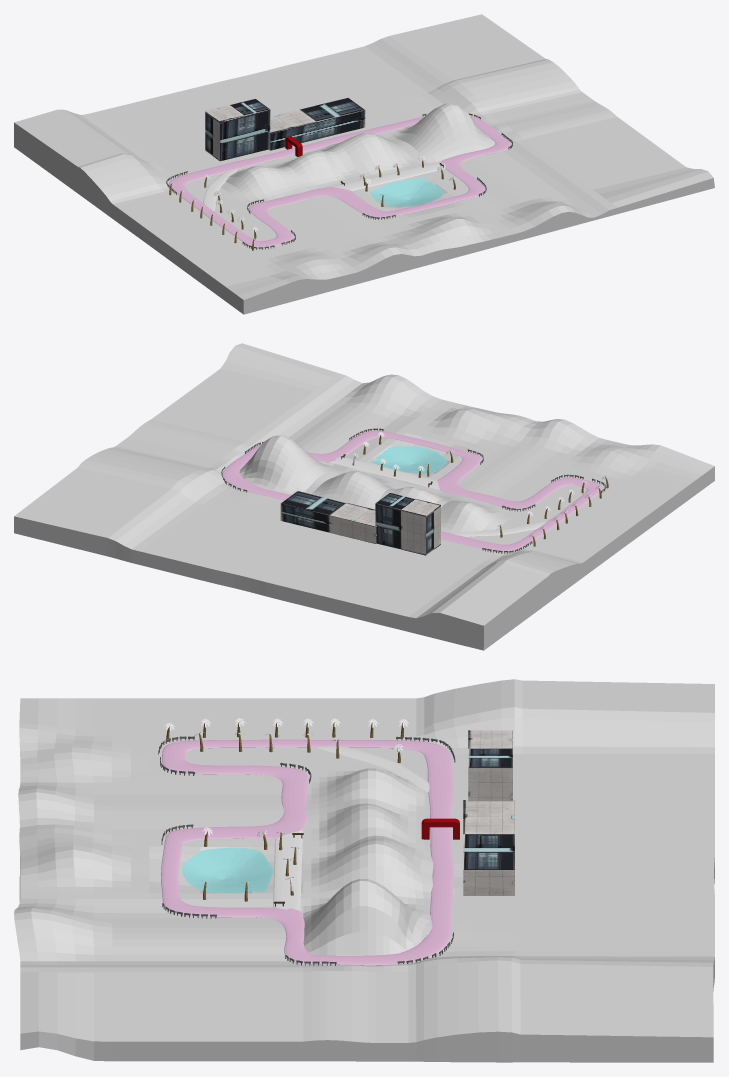
File: deserto pista 4 fix .fbx
3 views of the same model, one above another, from view 1: azimuth 30°, elevation 25°; view 2: azimuth 150°, elevation 25°; view 3: azimuth 270°, elevation 25° (orthographic). The views are drawn at different scales.
Parts seen in each view (by area): view 1: Plane, Vert, Cube, Plane.001, Vert.002, Cylinder, Plane.062; view 2: Plane, Cube, Vert, Plane.001, Vert.002, Cylinder, Plane.062; view 3: Plane, Vert, Cube, Plane.001, Vert.002, Cylinder, Plane.062.
Part boxes in pixels (x1,y1,x2,y2): Plane: [14, 14, 714, 314]; Vert: [169, 116, 511, 248]; Cube: [205, 98, 365, 161]; Plane.001: [370, 177, 444, 206]; Vert.002: [203, 161, 445, 210]; Cylinder: [169, 155, 455, 250]; Plane.062: [166, 113, 512, 249]; Plane: [14, 343, 714, 650]; Cube: [280, 491, 440, 555]; Vert: [222, 430, 602, 552]; Plane.001: [370, 446, 447, 474]; Vert.002: [329, 457, 547, 536]; Cylinder: [352, 431, 608, 546]; Plane.062: [221, 428, 605, 553]; Plane: [14, 679, 714, 1062]; Vert: [161, 739, 454, 965]; Cube: [463, 730, 514, 895]; Plane.001: [182, 847, 272, 893]; Vert.002: [273, 746, 429, 910]; Cylinder: [164, 718, 408, 901]; Plane.062: [158, 736, 455, 965].
Bounding box in the file's own units: 2371 × 263 × 2016.
